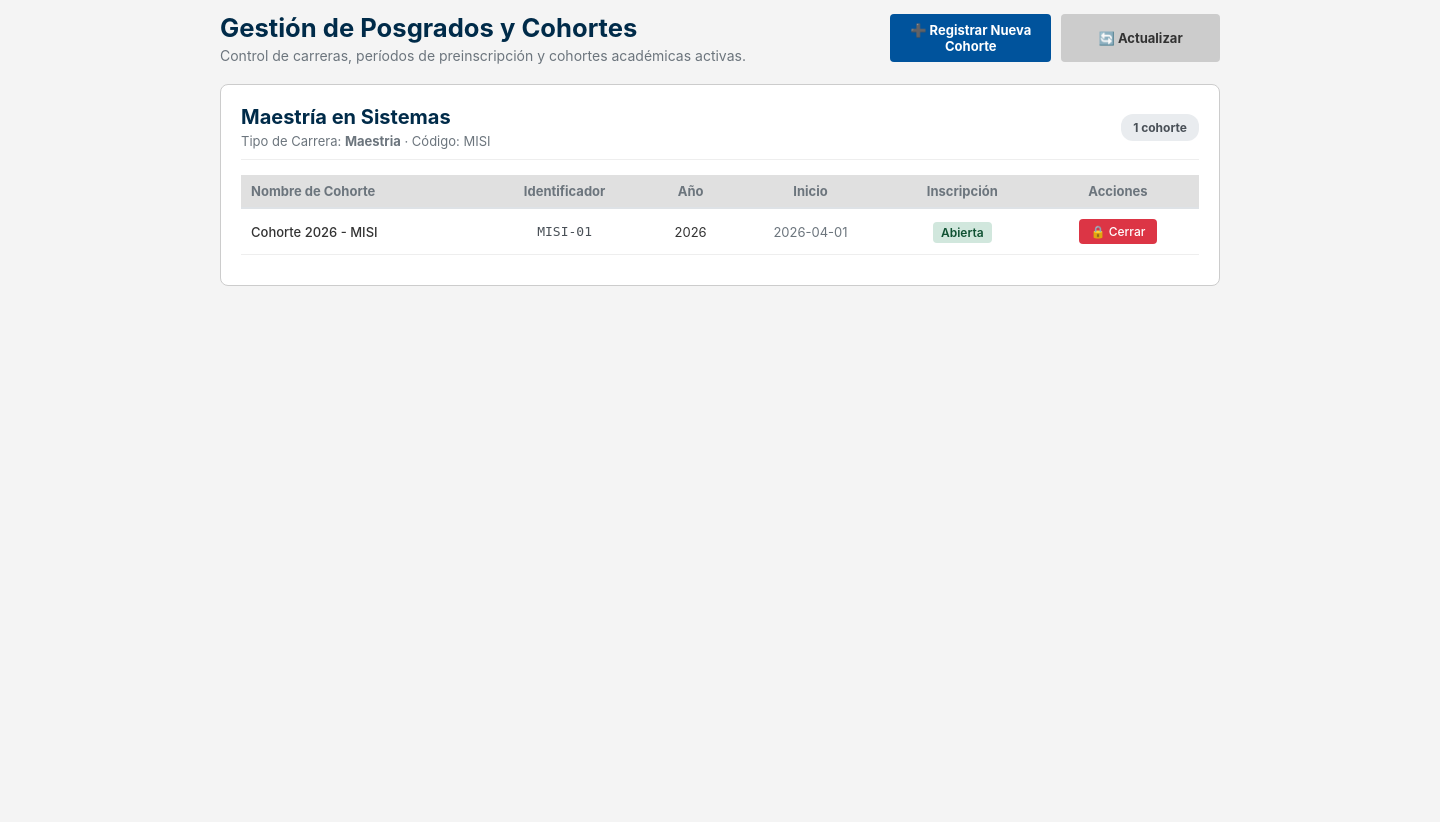
Test: VistaPostgrados Component › valida formato del código de carrera al registrar nueva cohorte
This screenshot has width=1440, height=822.
Expected: the heading "Maestría en Sistemas" is shown, [241,105,451,129]
Note: Abrir formulario
Click the button "➕ Registrar Nueva Cohorte": (971, 38) [890,14,1051,62]
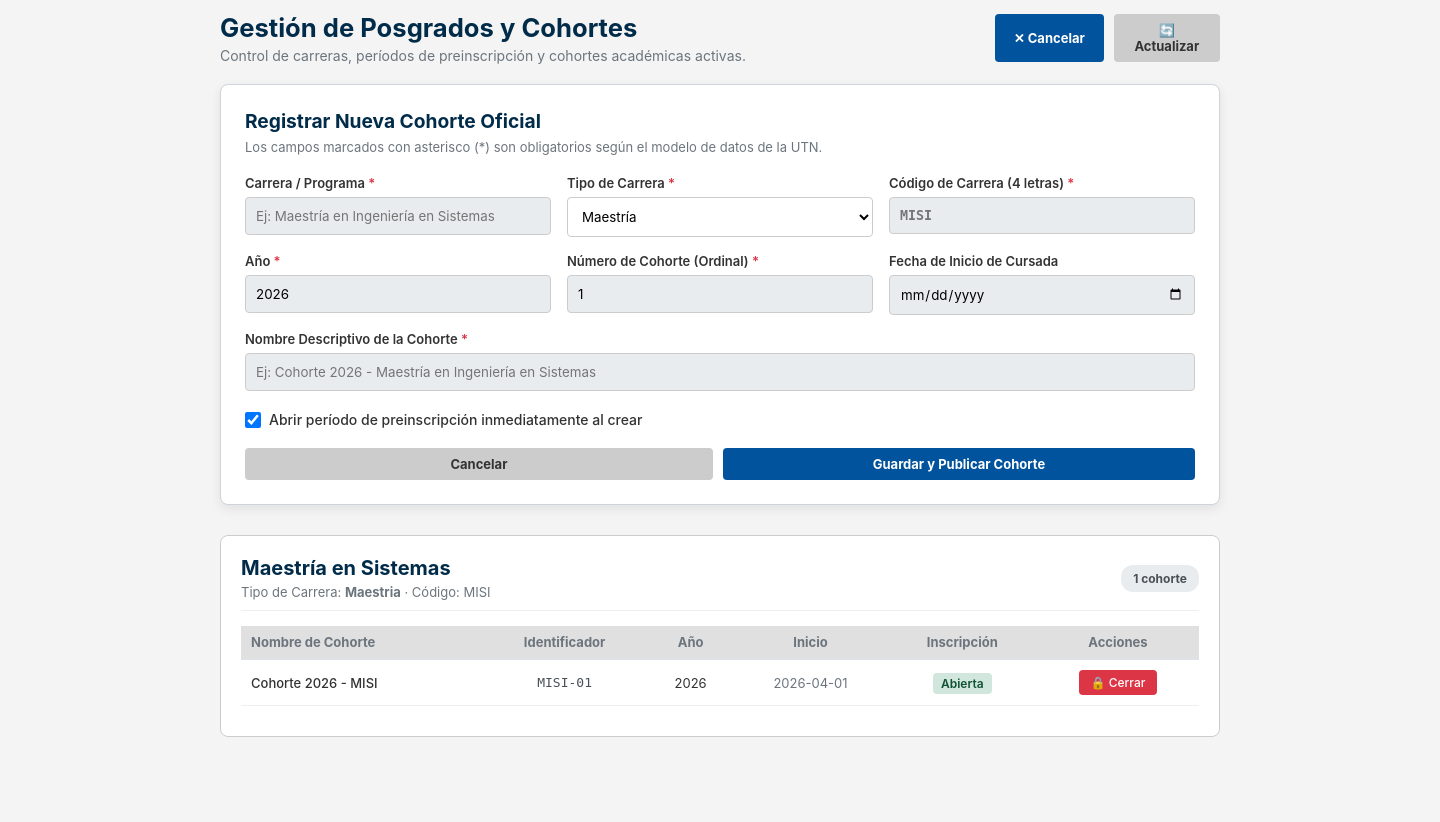
Note: Ingresar carrera (primer input con placeholder descriptivo)
In the field with placeholder "Ej: Maestría en Ingeniería en Sistemas": (398, 216) [245,197,551,235], type "Ingeniería en Software"
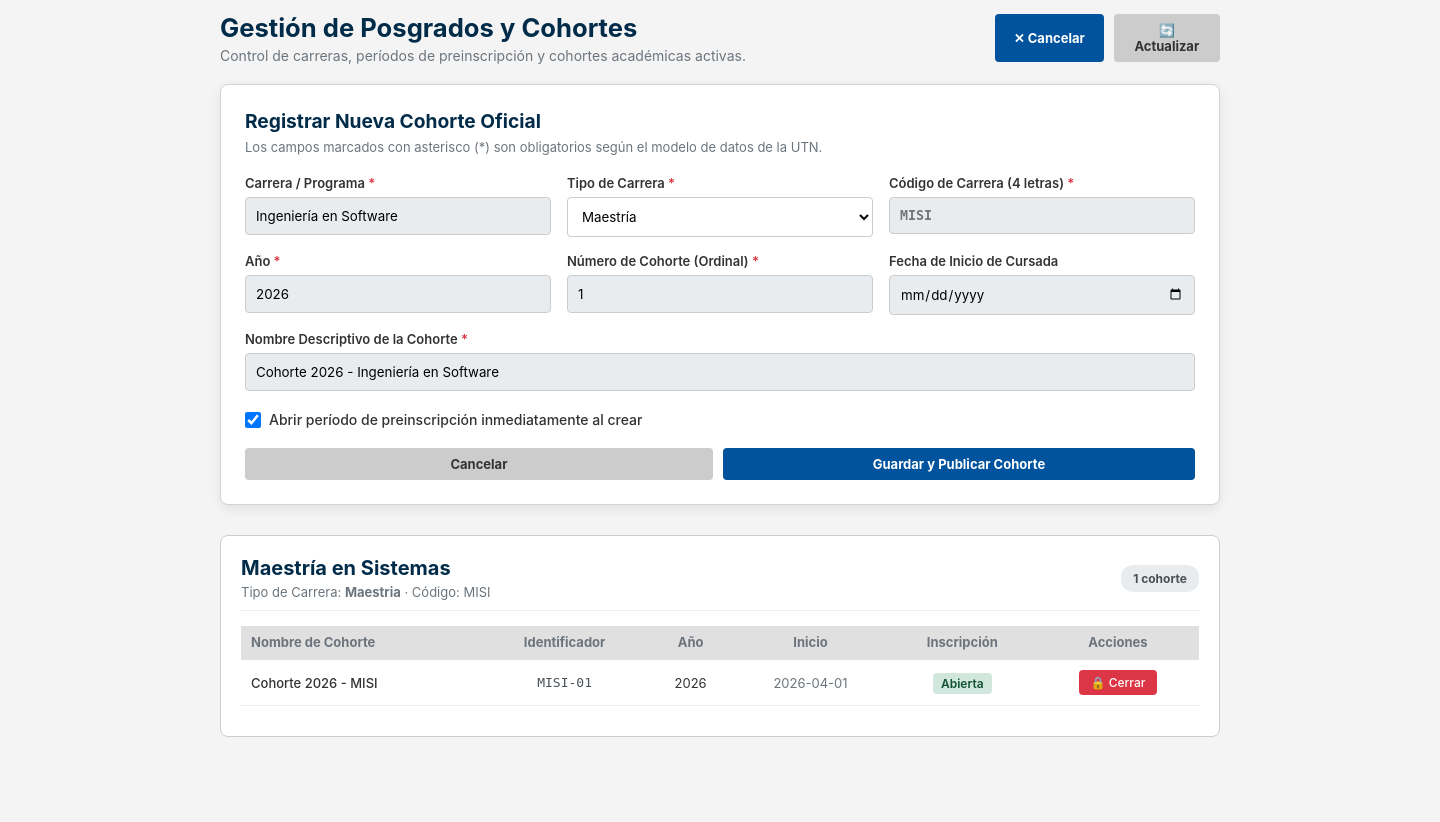
Note: Ingresar código inválido (3 caracteres en vez de 4)
In the field with placeholder "MISI": (1042, 216) [889,197,1195,234], type "ABC"
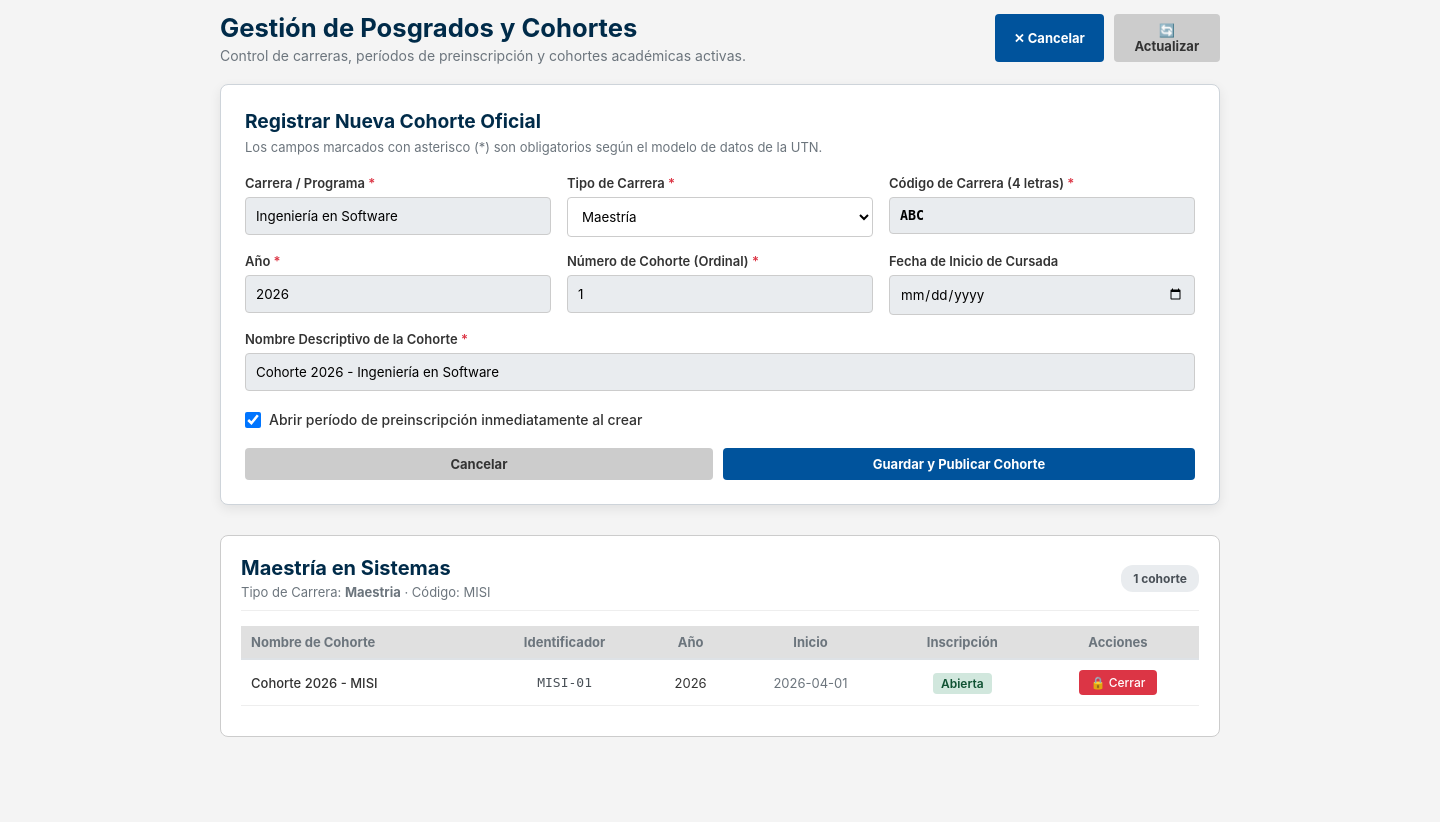
Note: Intentar enviar
Click the button "Guardar y Publicar Cohorte": (959, 464) [723,448,1195,480]
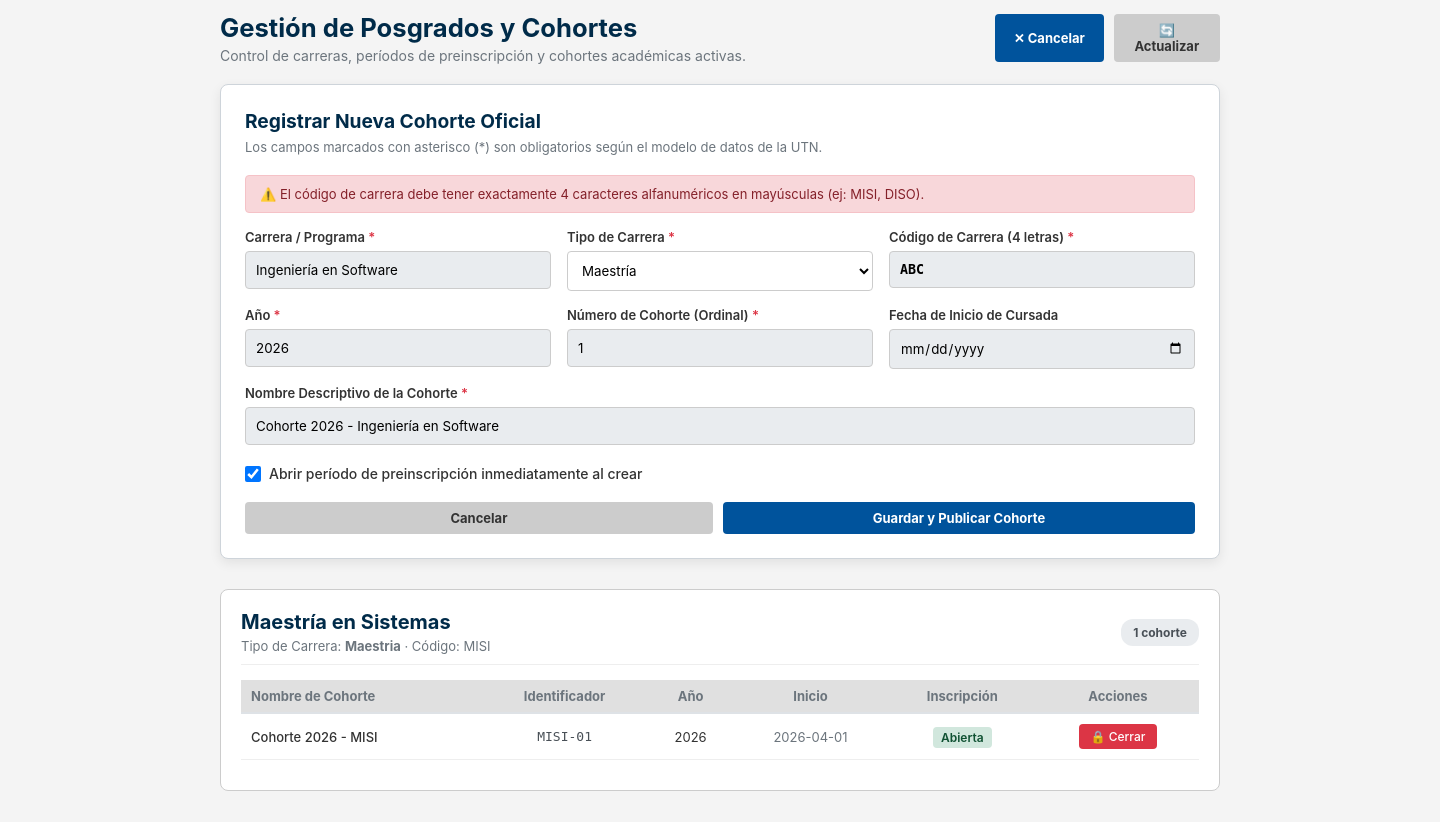
Expected: the text "El código de carrera debe tener exactamente 4 caracteres" is shown, [280,186,924,202]
